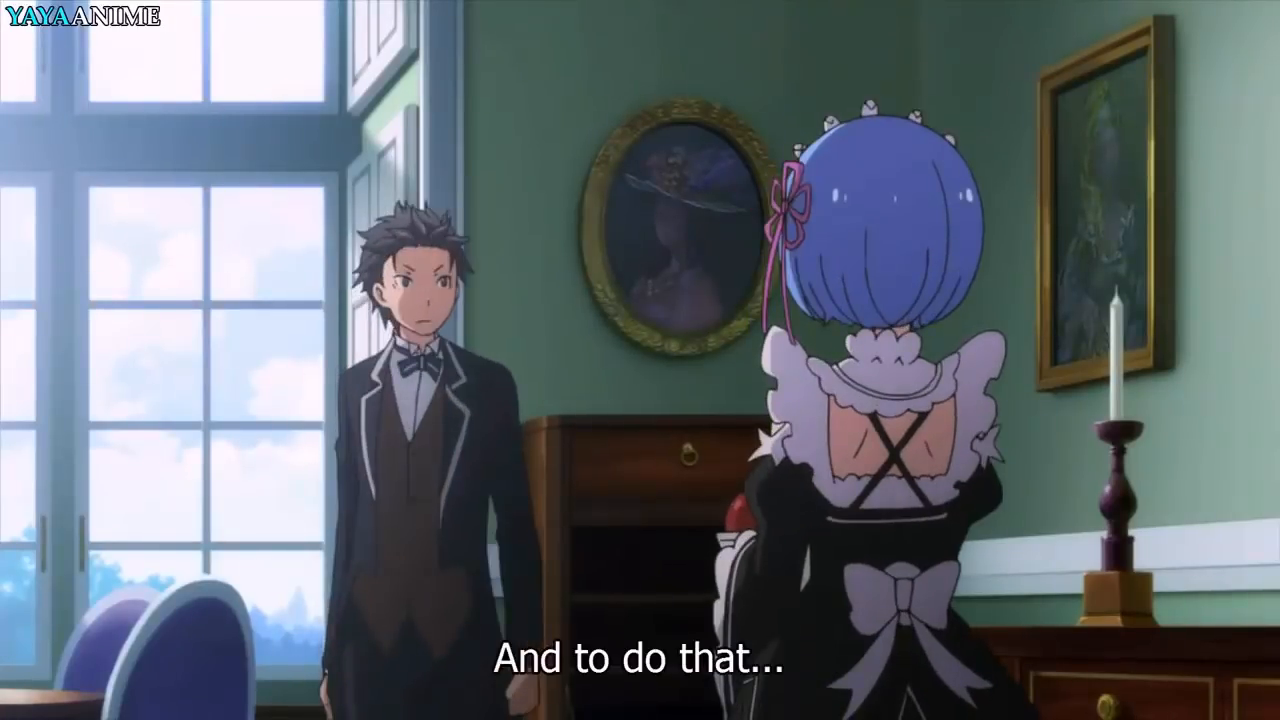REM: (769, 112, 988, 333)
